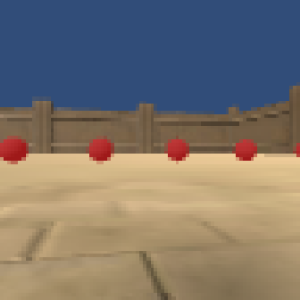badGoal: (86, 136, 117, 164), (1, 134, 28, 164), (232, 137, 258, 164), (164, 137, 190, 163), (295, 139, 300, 160)
